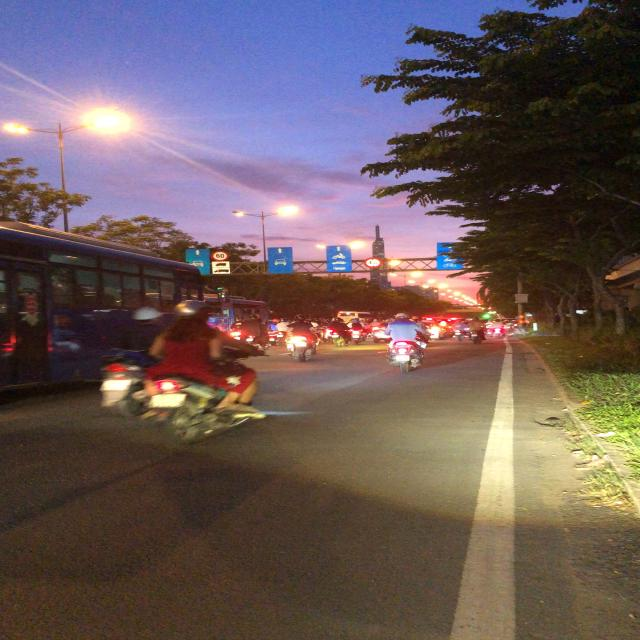Bien bao han che chieu cao: (359, 256, 376, 269)
Bien bao toc do toi da cho phep: (208, 248, 231, 262)
